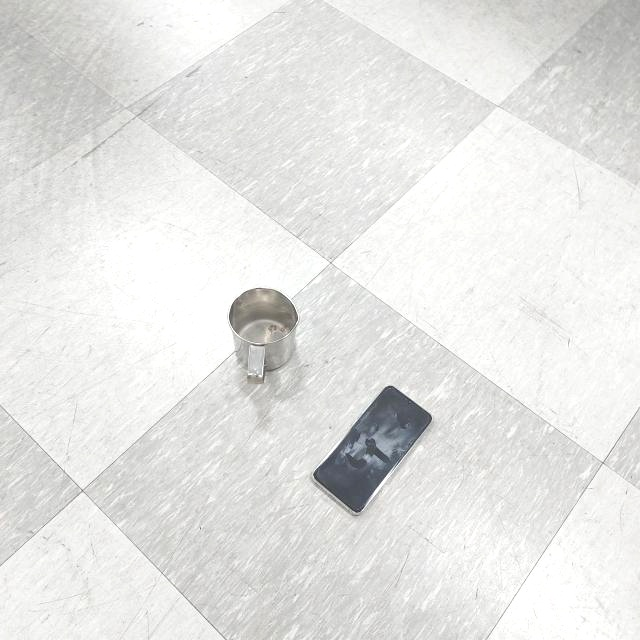cup: (228, 284, 300, 384)
phone: (311, 385, 434, 519)
